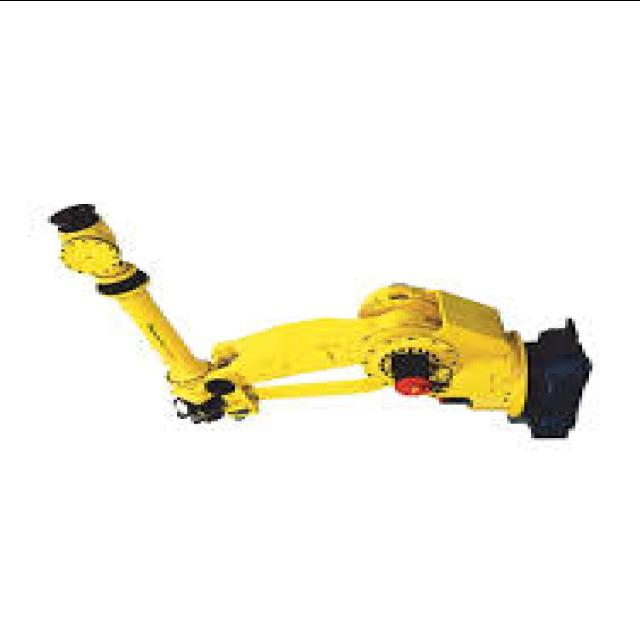Robotic-arm: (39, 196, 608, 450)
